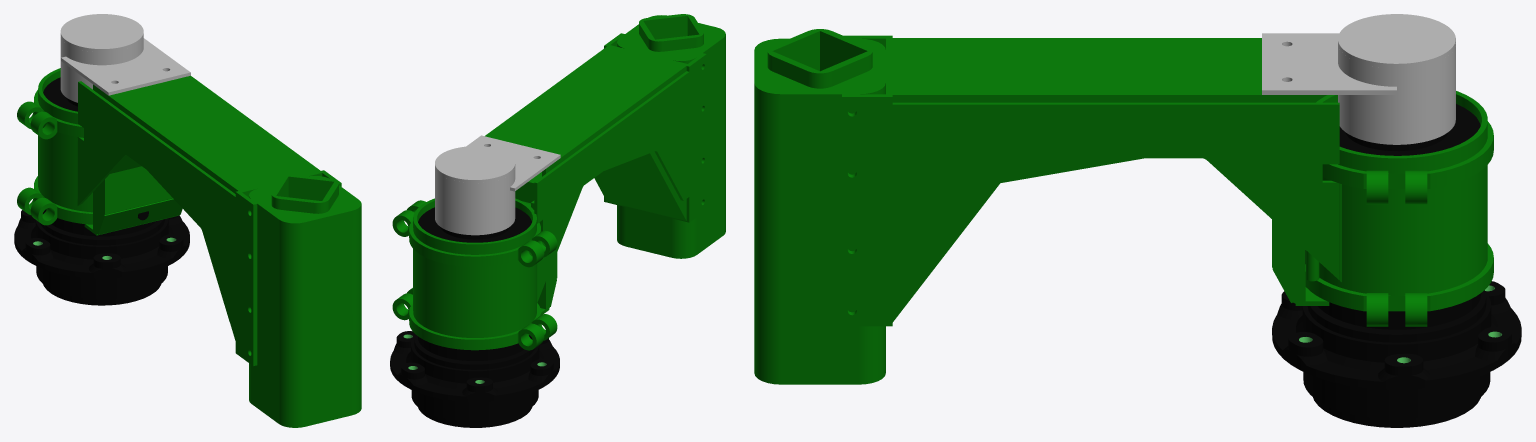
Rendered from Leg.obj.
3 renders of one model, left to right at view 1: azimuth 30°, elevation 25°; view 2: azimuth 150°, elevation 25°; view 3: azimuth 270°, elevation 25°, orthographic. The views are drawn at different scales.
Visible parts, largest first — view 1: mesh 1 Vinkel30x45x4-1, mesh 5 Poldi aas-1, mesh 4 Piduri kate-1/Piduri katte ketas-1, mesh 2 Piduri kate-1/Piduri katte plaat-1; view 2: mesh 1 Vinkel30x45x4-1, mesh 4 Piduri kate-1/Piduri katte ketas-1, mesh 5 Poldi aas-1, mesh 2 Piduri kate-1/Piduri katte plaat-1; view 3: mesh 1 Vinkel30x45x4-1, mesh 5 Poldi aas-1, mesh 4 Piduri kate-1/Piduri katte ketas-1, mesh 2 Piduri kate-1/Piduri katte plaat-1.
Boxes of the visible parts, <box> form: mesh 1 Vinkel30x45x4-1: <box>17,68,341,365</box>; mesh 5 Poldi aas-1: <box>249,174,361,427</box>; mesh 4 Piduri kate-1/Piduri katte ketas-1: <box>14,77,189,305</box>; mesh 2 Piduri kate-1/Piduri katte plaat-1: <box>60,14,190,102</box>; mesh 1 Vinkel30x45x4-1: <box>392,33,706,350</box>; mesh 4 Piduri kate-1/Piduri katte ketas-1: <box>390,207,559,427</box>; mesh 5 Poldi aas-1: <box>617,14,725,258</box>; mesh 2 Piduri kate-1/Piduri katte plaat-1: <box>435,135,560,235</box>; mesh 1 Vinkel30x45x4-1: <box>842,35,1493,326</box>; mesh 5 Poldi aas-1: <box>754,29,885,384</box>; mesh 4 Piduri kate-1/Piduri katte ketas-1: <box>1272,104,1521,427</box>; mesh 2 Piduri kate-1/Piduri katte plaat-1: <box>1262,14,1455,144</box>.
Size of the model in its own units: 0.148 by 0.231 by 0.455.
